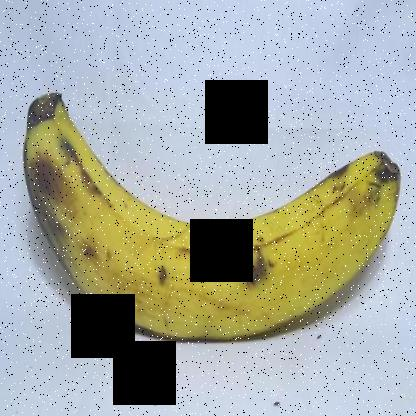ripe: (2, 80, 406, 366)
